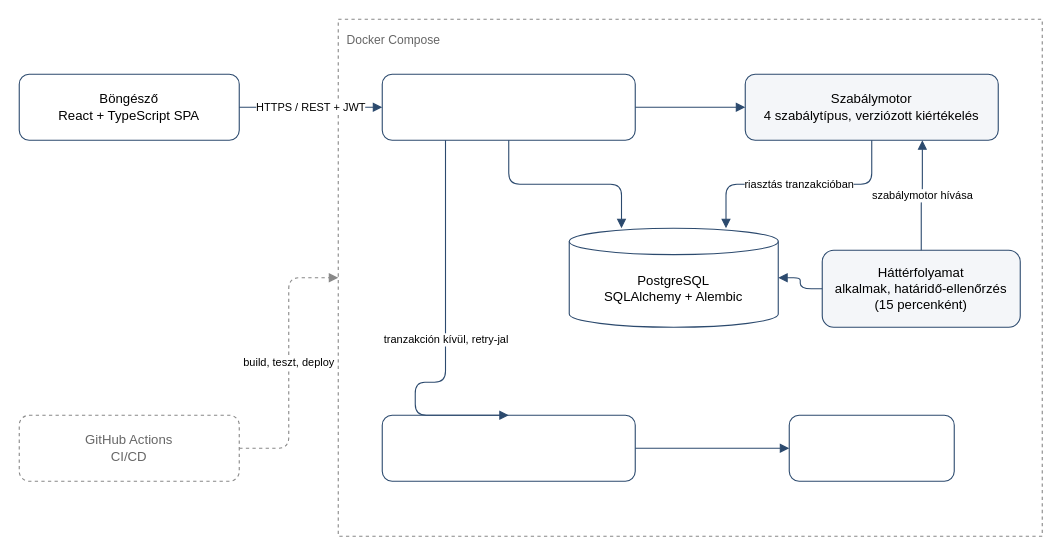
Image size: 1062x556. Some labels were removed from this diagram. Each missing label, with the box of its shape:
E-mail küldő retry + kézbesítés-nyilvántartás: (381, 414, 635, 481)
FastAPI backend szolgáltatásréteg, jogosultság-szűrés: (381, 73, 635, 140)
SMTP dev: Mailpit: (788, 414, 954, 481)
